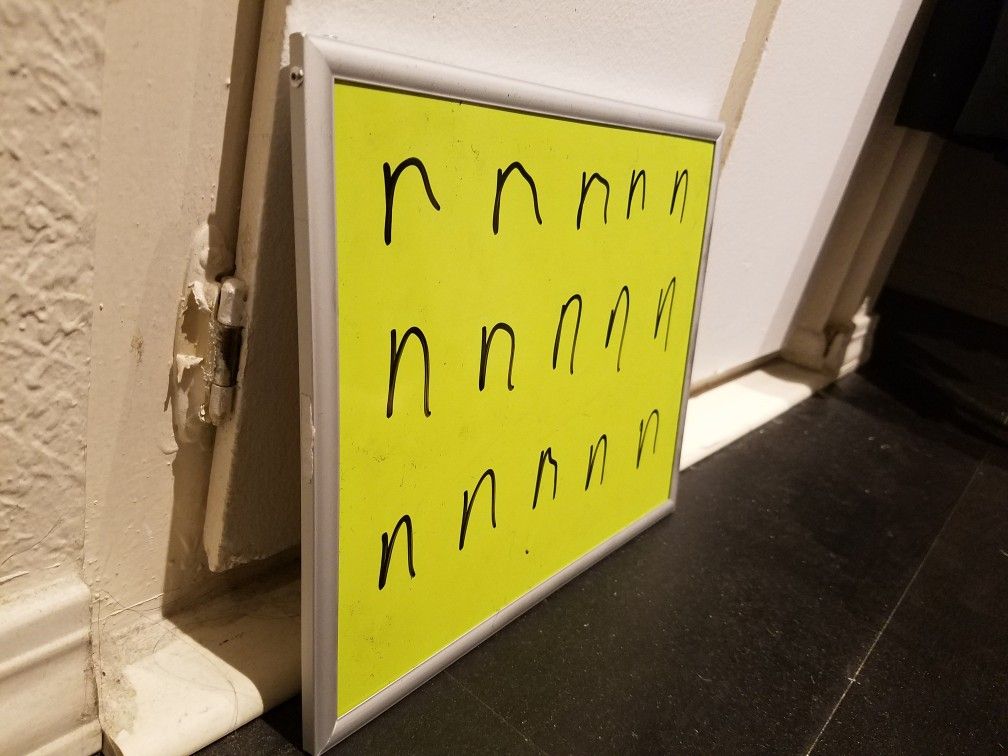n: (360, 124, 452, 258), (366, 298, 441, 447), (474, 142, 550, 256), (448, 450, 516, 563), (460, 301, 527, 406), (359, 500, 422, 611), (564, 151, 620, 248), (595, 273, 642, 377), (540, 282, 585, 387), (580, 423, 618, 517), (533, 435, 570, 529), (650, 271, 685, 358), (627, 397, 664, 476), (664, 156, 695, 236), (627, 148, 654, 233)
